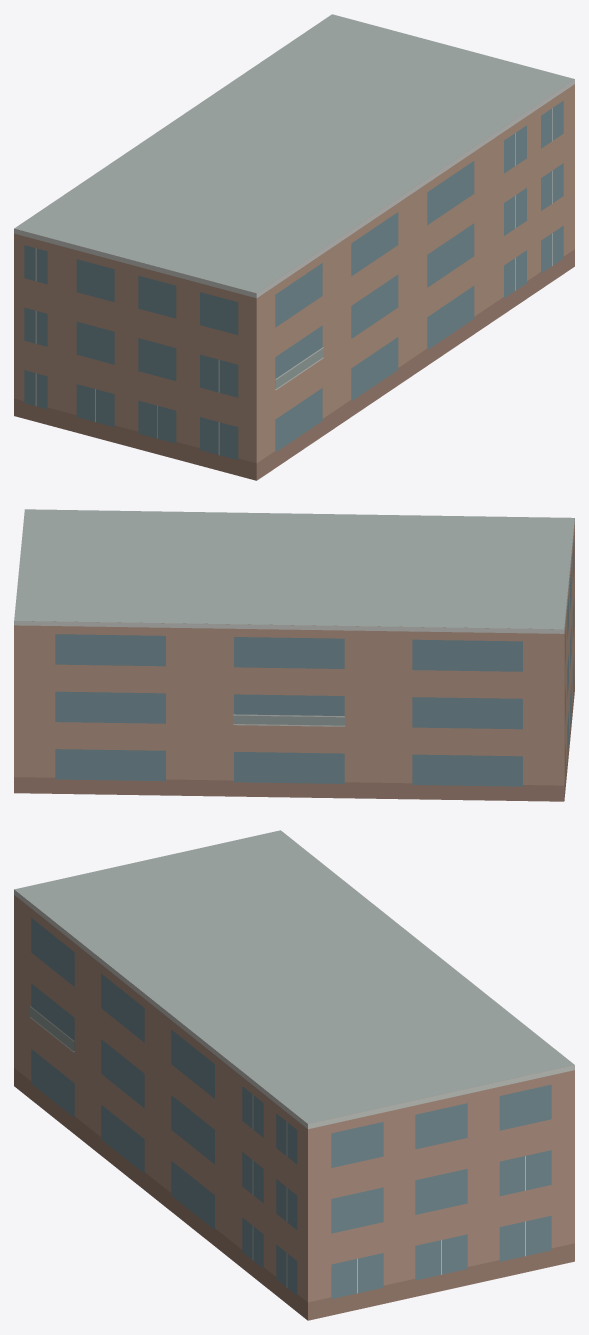
File: survey-upis-32930296.glb
The picture shows the model from 3 angles, top to bottom: view 1: azimuth 30°, elevation 25°; view 2: azimuth 150°, elevation 25°; view 3: azimuth 270°, elevation 25°; orthographic projection. The views are drawn at different scales.
Parts seen in each view (by area): view 1: survey-upis-32930296.tmp; view 2: survey-upis-32930296.tmp; view 3: survey-upis-32930296.tmp.
Boxes of the visible parts, box(x1,y1,x2,y2) form: survey-upis-32930296.tmp: box(14, 14, 574, 480); survey-upis-32930296.tmp: box(14, 509, 574, 801); survey-upis-32930296.tmp: box(14, 830, 574, 1320).
Size of the model in its own units: 29.32 by 9.15 by 23.65.
